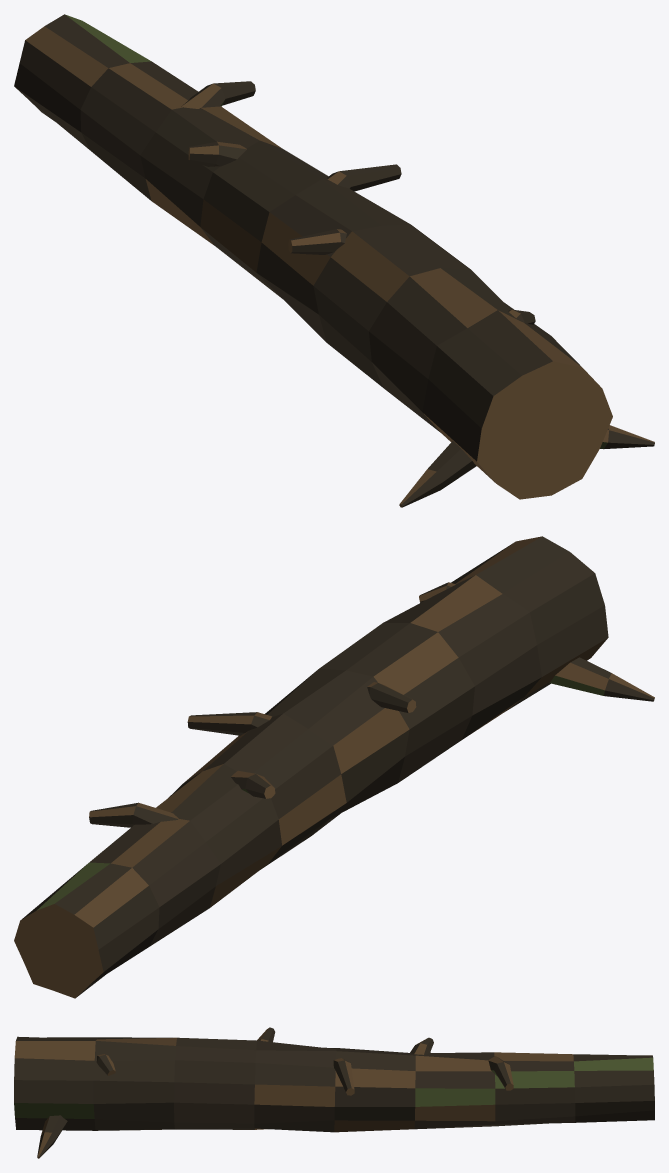
File: wood_005a_long_fallen_tree.glb
3 views of the same model, one above another, from view 1: azimuth 30°, elevation 25°; view 2: azimuth 150°, elevation 25°; view 3: azimuth 270°, elevation 25° (orthographic). The views are drawn at different scales.
Visible parts, largest first — view 1: wood_005a_long_fallen_tree__mesh; view 2: wood_005a_long_fallen_tree__mesh; view 3: wood_005a_long_fallen_tree__mesh.
Boxes of the visible parts, x1,y1,x2,y2 form: wood_005a_long_fallen_tree__mesh: [14, 14, 654, 507]; wood_005a_long_fallen_tree__mesh: [14, 536, 654, 998]; wood_005a_long_fallen_tree__mesh: [14, 1027, 654, 1158].
Bounding box in the file's own units: 4.36 × 2.28 × 14.9.
